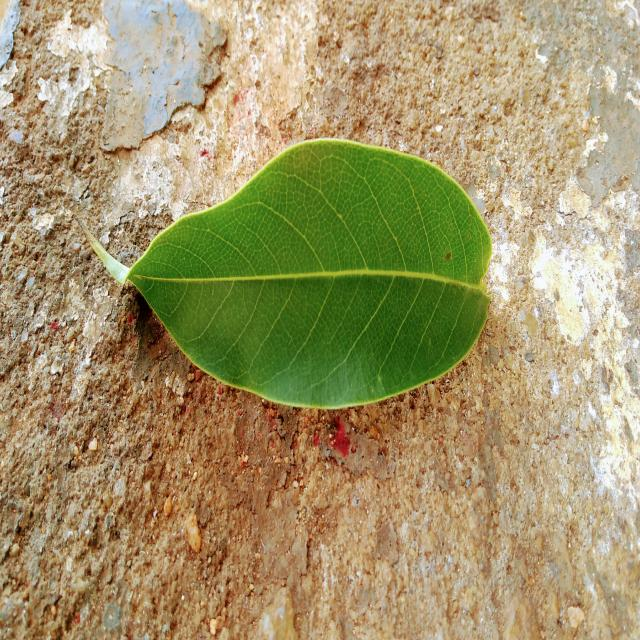sampige: (129, 140, 491, 407)
